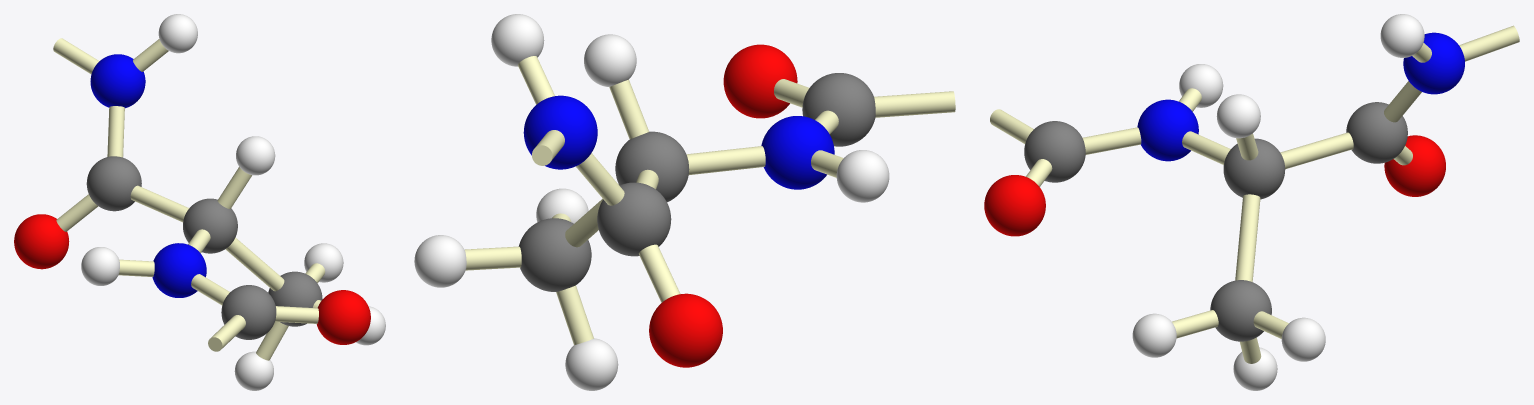
File: conformation.gltf
The picture shows the model from 3 angles, left to right: view 1: azimuth 30°, elevation 25°; view 2: azimuth 150°, elevation 25°; view 3: azimuth 270°, elevation 25°; orthographic projection. The views are drawn at different scales.
Visible parts, largest first — view 1: ?????????2, ?????????6, ?????????13, ?????????5, ?????????3, ?????????1, ?????????4, ?????????9, ?????????14, ?????????8, ?????????7, ?????????12 (+15 smaller); view 2: ?????????6, ?????????5, ?????????2, ?????????9, ?????????3, ?????????13, ?????????1, ?????????4, ?????????7, ?????????11, ?????????8, ?????????12 (+14 smaller); view 3: ?????????2, ?????????3, ?????????5, ?????????1, ?????????9, ?????????4, ?????????13, ?????????6, ?????????22, ?????????10, ?????????11, ?????????8 (+11 smaller).
Part boxes in pixels (x1,y1,x2,y2): ?????????2: (316, 290, 370, 344); ?????????6: (14, 214, 69, 269); ?????????13: (90, 54, 145, 108); ?????????5: (86, 156, 141, 211); ?????????3: (152, 243, 206, 297); ?????????1: (221, 285, 276, 339); ?????????4: (183, 198, 237, 253); ?????????9: (268, 271, 322, 326); ?????????14: (158, 14, 197, 53); ?????????8: (236, 136, 275, 175); ?????????7: (81, 247, 119, 285); ?????????12: (234, 351, 273, 390); ?????????6: (649, 293, 722, 367); ?????????5: (597, 182, 671, 256); ?????????2: (723, 44, 797, 118); ?????????9: (518, 218, 591, 291); ?????????3: (761, 116, 834, 189); ?????????13: (523, 95, 597, 169); ?????????1: (802, 73, 875, 146); ?????????4: (615, 131, 689, 202); ?????????7: (836, 150, 889, 202); ?????????11: (414, 235, 466, 287); ?????????8: (584, 34, 636, 86); ?????????12: (565, 338, 618, 390); ?????????2: (984, 175, 1045, 236); ?????????3: (1137, 99, 1198, 161); ?????????5: (1346, 102, 1407, 163); ?????????1: (1024, 121, 1085, 182); ?????????9: (1210, 280, 1271, 341); ?????????4: (1223, 138, 1285, 199); ?????????13: (1403, 32, 1464, 94); ?????????6: (1384, 135, 1445, 196); ?????????22: (1235, 194, 1260, 281); ?????????10: (1132, 313, 1176, 357); ?????????11: (1281, 317, 1325, 361); ?????????8: (1216, 94, 1260, 138).
Bounding box in the file's own units: 44.42 × 45.94 × 60.74.
